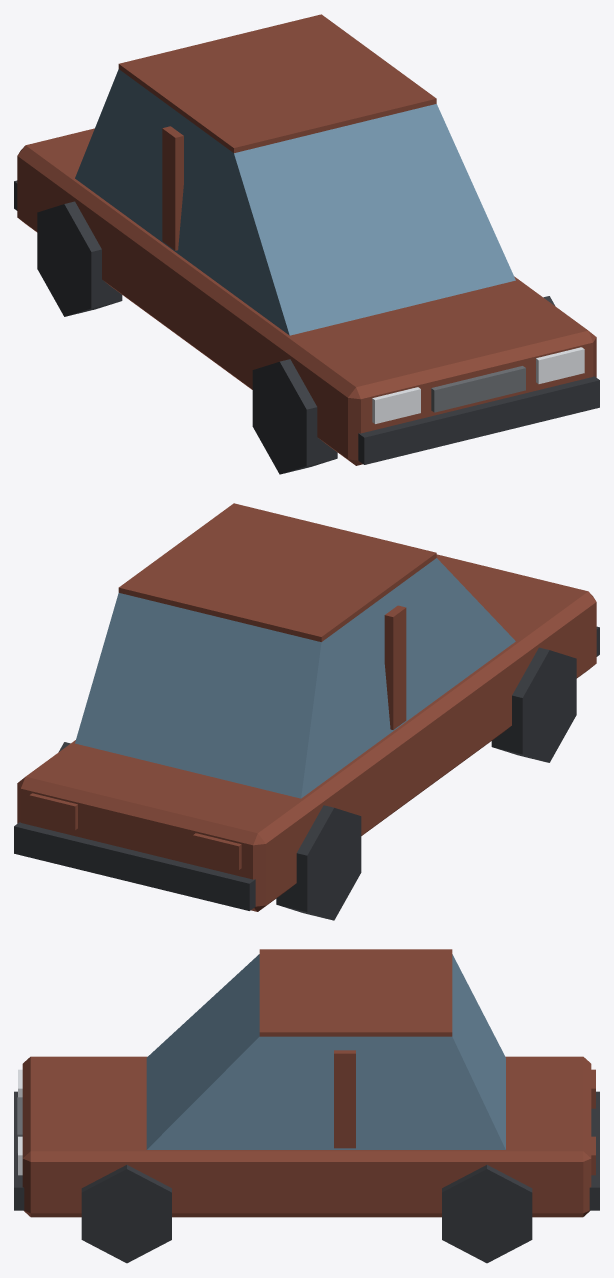
The model's file is car-hatchback.glb.
3 renders of one model, top to bottom at view 1: azimuth 30°, elevation 25°; view 2: azimuth 150°, elevation 25°; view 3: azimuth 270°, elevation 25°, orthographic. The views are drawn at different scales.
Visible parts, largest first — view 1: greenhouse, painted-body, painted-roof, bumper-1, tyre-0.57--1, tyre--0.57--1, grille, window-pillar--1, light-1-1, light-1--1; view 2: greenhouse, painted-body, painted-roof, bumper--1, tyre--0.57--1, tyre-0.57--1, window-pillar--1, light--1-1, light--1--1; view 3: painted-body, greenhouse, painted-roof, tyre--0.57-1, tyre-0.57-1, window-pillar-1, bumper--1, bumper-1.
Part boxes in pixels (x1=…): greenhouse: x1=75, y1=69, x2=515, y2=335; painted-body: x1=17, y1=128, x2=596, y2=465; painted-roof: x1=118, y1=14, x2=436, y2=153; bumper-1: x1=358, y1=376, x2=599, y2=464; tyre-0.57--1: x1=252, y1=359, x2=337, y2=474; tyre--0.57--1: x1=37, y1=201, x2=122, y2=316; grille: x1=431, y1=366, x2=525, y2=412; window-pillar--1: x1=162, y1=126, x2=183, y2=250; light-1-1: x1=536, y1=347, x2=584, y2=383; light-1--1: x1=372, y1=387, x2=420, y2=423; greenhouse: x1=75, y1=558, x2=515, y2=798; painted-body: x1=17, y1=554, x2=596, y2=911; painted-roof: x1=118, y1=503, x2=436, y2=641; bumper--1: x1=14, y1=822, x2=255, y2=910; tyre--0.57--1: x1=276, y1=805, x2=361, y2=920; tyre-0.57--1: x1=491, y1=647, x2=576, y2=762; window-pillar--1: x1=384, y1=605, x2=406, y2=729; light--1-1: x1=29, y1=793, x2=77, y2=830; light--1--1: x1=193, y1=833, x2=241, y2=870; painted-body: x1=22, y1=1056, x2=591, y2=1217; greenhouse: x1=146, y1=954, x2=505, y2=1149; painted-roof: x1=259, y1=949, x2=452, y2=1036; tyre--0.57-1: x1=442, y1=1165, x2=532, y2=1263; tyre-0.57-1: x1=81, y1=1165, x2=171, y2=1263; window-pillar-1: x1=334, y1=1050, x2=355, y2=1148; bumper--1: x1=589, y1=1091, x2=599, y2=1210; bumper-1: x1=14, y1=1091, x2=24, y2=1210.
Bounding box in the file's own units: 0.825 × 0.76 × 1.85.
